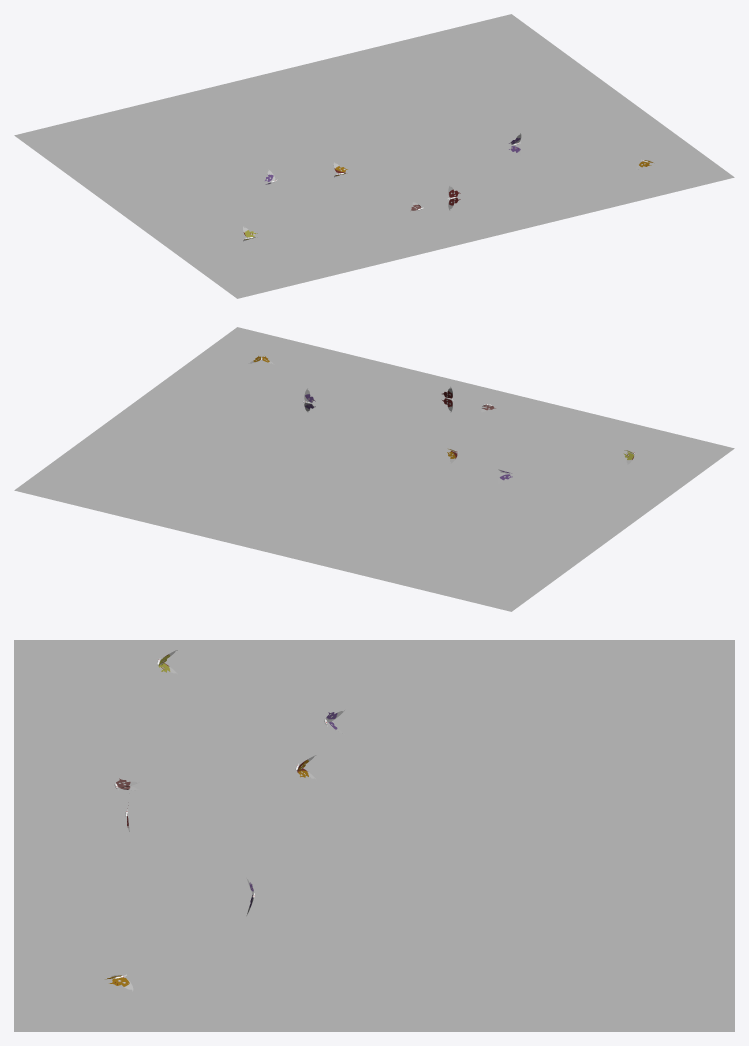
Rendered from Anim1.glb.
3 views of the same model, one above another, from view 1: azimuth 30°, elevation 25°; view 2: azimuth 150°, elevation 25°; view 3: azimuth 270°, elevation 25° (orthographic). The views are drawn at different scales.
Parts seen in each view (by area): view 1: Plane001; view 2: Plane001; view 3: Plane001.
Boxes of the visible parts, bbox=[...] form: Plane001: bbox=[14, 14, 734, 298]; Plane001: bbox=[14, 327, 734, 611]; Plane001: bbox=[14, 640, 734, 1031].
Bounding box in the file's own units: 95.12 × 4.96 × 73.96.
Materials: 50 (7 with a texture image).
